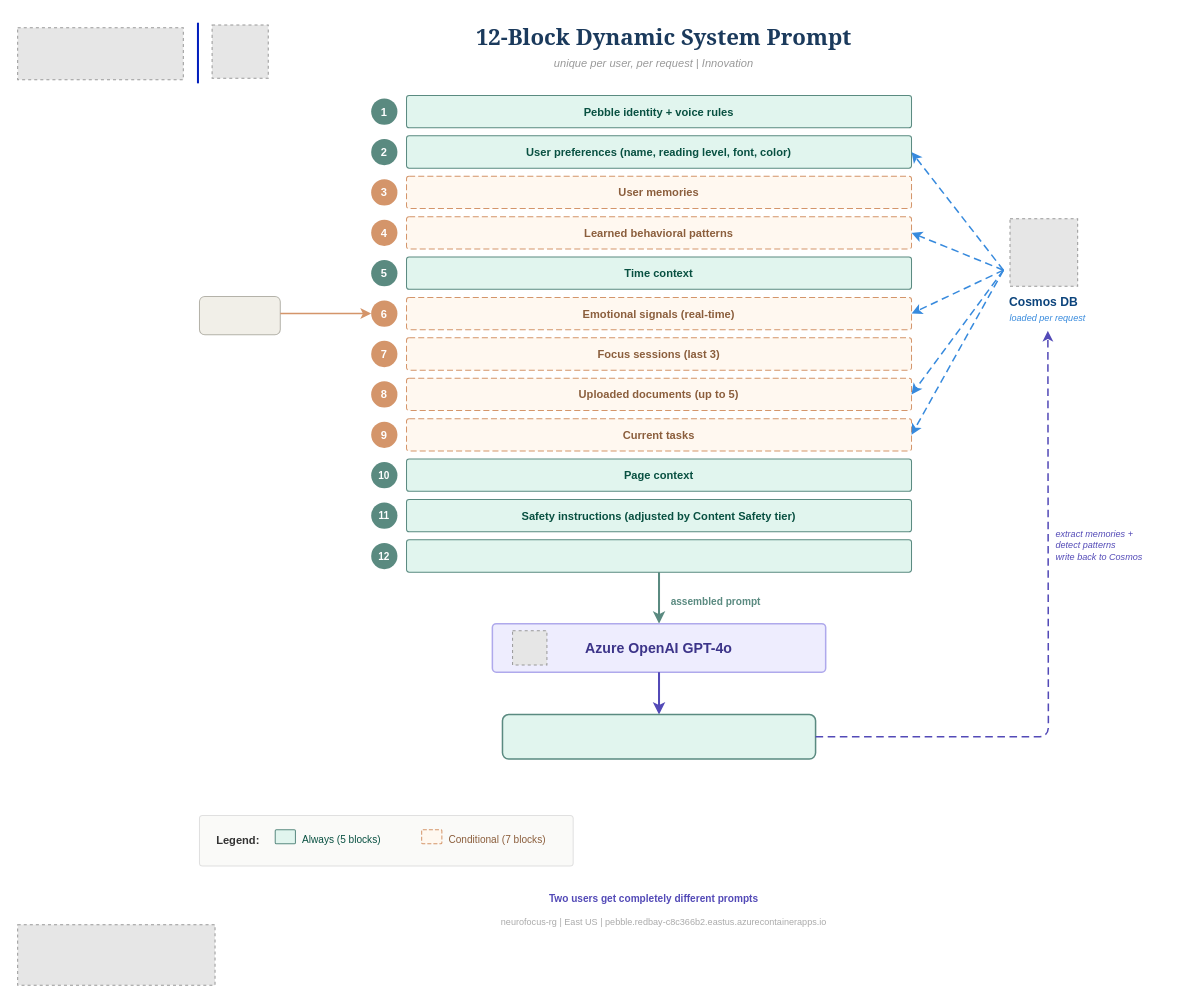
This 1183x1003 diagram has some shape labels left out. Grey dashed boxes stand in for pictures. Each missing label, with the centre of its shape:
"Personalized AI response" goes at (658,736).
"Response format rules" goes at (659,555).
"User message" goes at (239,315).
